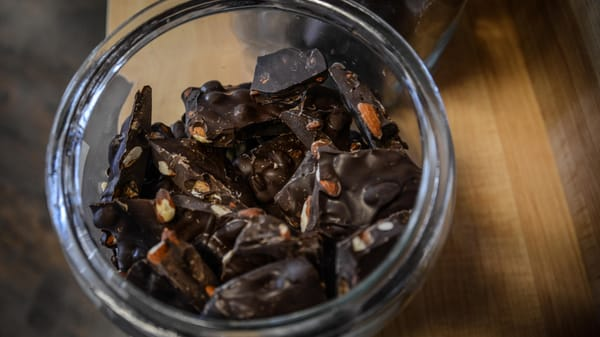sushi: (45, 1, 455, 332)
